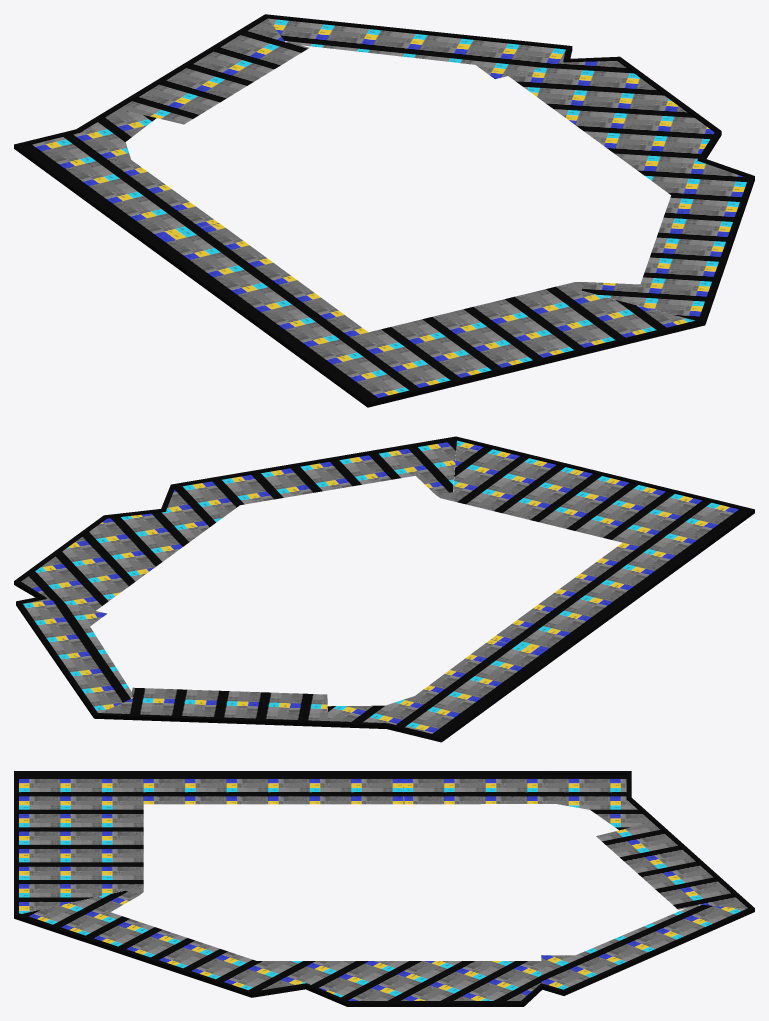
Rendered from downtown_sidewalk_6.fbx.
3 views of the same model, one above another, from view 1: azimuth 30°, elevation 25°; view 2: azimuth 150°, elevation 25°; view 3: azimuth 270°, elevation 25° (orthographic). The views are drawn at different scales.
Parts seen in each view (by area): view 1: downtown_curb_1, downtown_curb_2, downtown_curb_3, curb_tiles_2, curb_tiles_1; view 2: downtown_curb_1, downtown_curb_2, downtown_curb_3, curb_tiles_2, curb_tiles_1; view 3: downtown_curb_1, downtown_curb_2, downtown_curb_3, curb_tiles_2, curb_tiles_1.
Boxes of the visible parts, box(x1,y1,x2,y2) form: downtown_curb_1: box(145, 223, 705, 407); downtown_curb_2: box(508, 56, 754, 324); downtown_curb_3: box(14, 14, 572, 244); curb_tiles_2: box(23, 109, 218, 240); curb_tiles_1: box(268, 18, 565, 78); downtown_curb_1: box(435, 436, 754, 657); downtown_curb_2: box(14, 436, 456, 610); downtown_curb_3: box(16, 596, 557, 742); curb_tiles_2: box(327, 639, 551, 735); curb_tiles_1: box(23, 599, 131, 712); downtown_curb_1: box(14, 771, 404, 914); downtown_curb_2: box(14, 890, 542, 1006); downtown_curb_3: box(402, 771, 754, 995); curb_tiles_2: box(402, 774, 651, 830); curb_tiles_1: box(541, 905, 745, 989).
Bounding box in the file's own units: 1982 × 15 × 2675.
